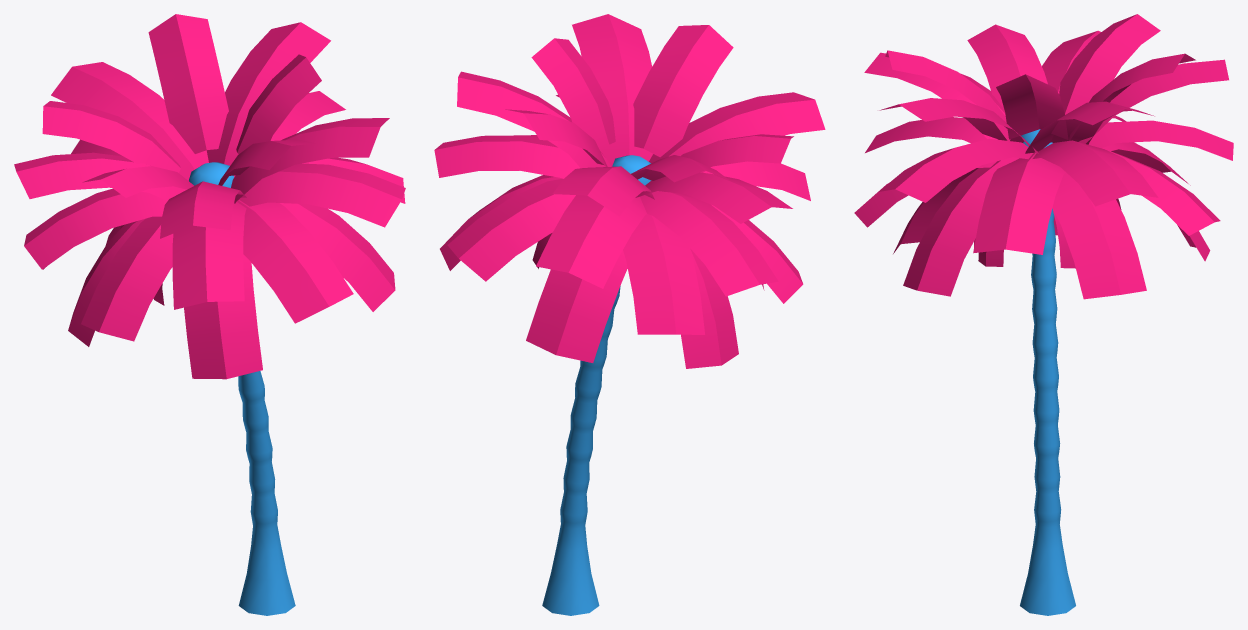
File: Prop_palmera02.FBX
The picture shows the model from 3 angles, left to right: view 1: azimuth 30°, elevation 25°; view 2: azimuth 150°, elevation 25°; view 3: azimuth 270°, elevation 25°; orthographic projection.
Parts seen in each view (by area): view 1: Cylinder001; view 2: Cylinder001; view 3: Cylinder001.
Boxes of the visible parts, x1,y1,x2,y2 form: Cylinder001: [14, 14, 405, 615]; Cylinder001: [434, 14, 825, 615]; Cylinder001: [854, 14, 1233, 615].
Bounding box in the file's own units: 5.58 × 8.49 × 5.38.
